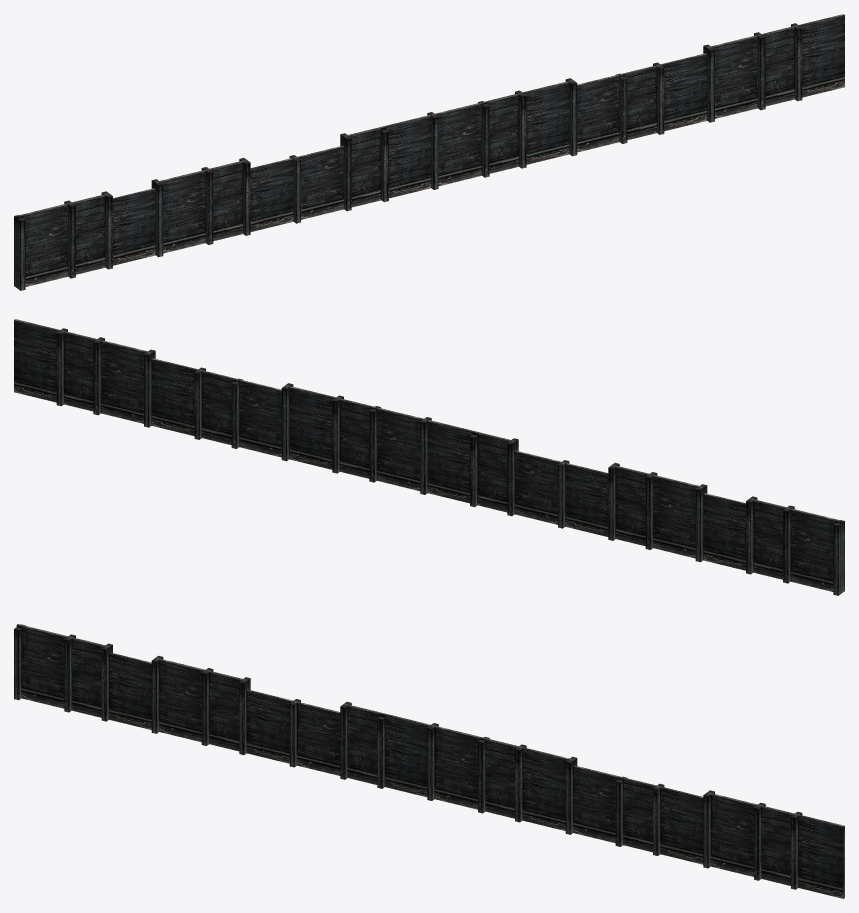
The model's file is Training_Barrier.fbx.
The picture shows the model from 3 angles, top to bottom: view 1: azimuth 30°, elevation 25°; view 2: azimuth 150°, elevation 25°; view 3: azimuth 330°, elevation 25°; orthographic projection.
Visible parts, largest first — view 1: F_barier01, F_barier02, F_barier03; view 2: F_barier01, F_barier03, F_barier02; view 3: F_barier01, F_barier02.
Part boxes in pixels (box(x1,y1,x2,y2)): F_barier01: box(16, 14, 844, 288); F_barier02: box(18, 26, 802, 290); F_barier03: box(14, 23, 797, 287); F_barier01: box(14, 319, 842, 593); F_barier03: box(56, 331, 840, 595); F_barier02: box(61, 328, 844, 592); F_barier01: box(16, 624, 844, 898); F_barier02: box(14, 627, 798, 889).
Size of what is drawn, in the model's own units: 1799 by 150 by 25.12.
